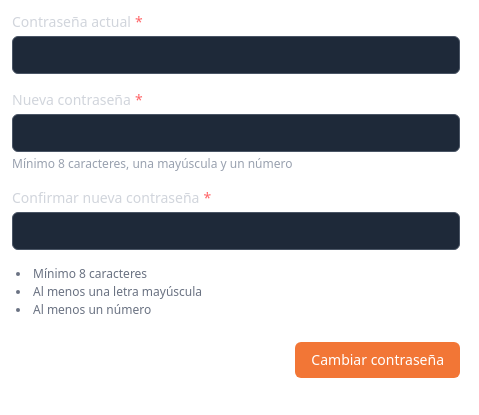
PasswordChangeForm › shows error on currentPassword field when backend returns 400
Type "OldPassword1" into the password field named "currentPassword".
click(236, 55); type("OldPassword1")  # box left=12, top=36, right=460, bottom=74
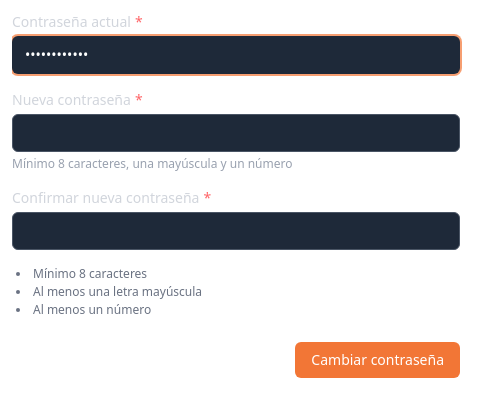
Type "NewPassword1" into the password field named "newPassword".
click(236, 133); type("NewPassword1")  # box left=12, top=114, right=460, bottom=152
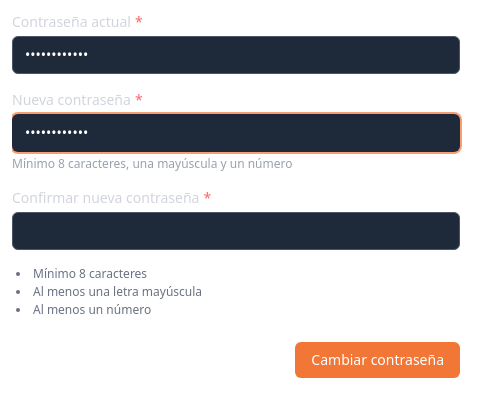
Type "NewPassword1" into the password field named "confirmPassword".
click(236, 231); type("NewPassword1")  # box left=12, top=212, right=460, bottom=250
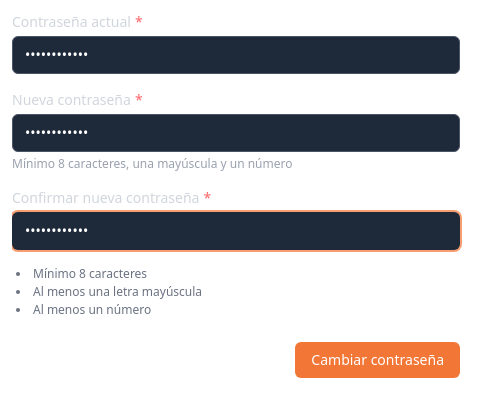
Click the button "Cambiar contraseña".
click(378, 360)  # box left=295, top=342, right=460, bottom=378
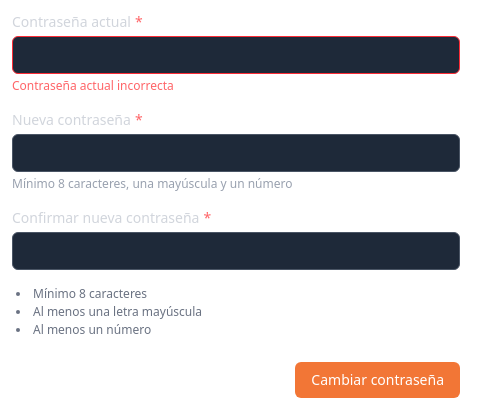
Expected: the text "Contraseña actual incorrecta" is shown, left=12, top=77, right=174, bottom=94
